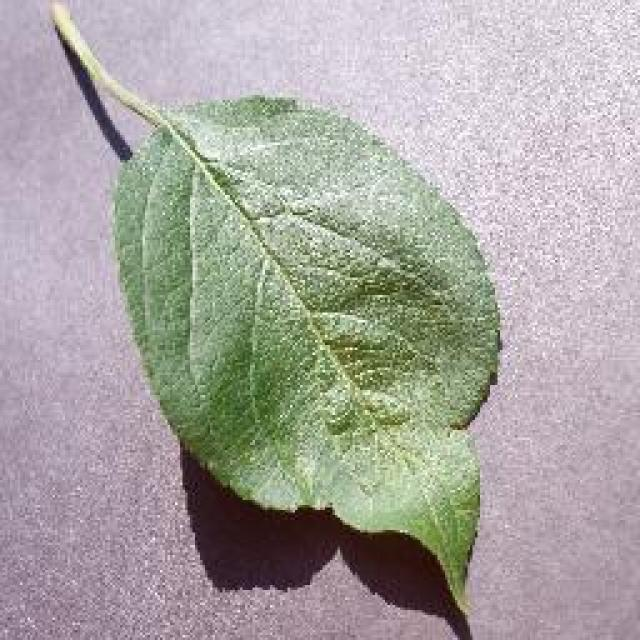apple scab disease: (45, 0, 505, 620)
